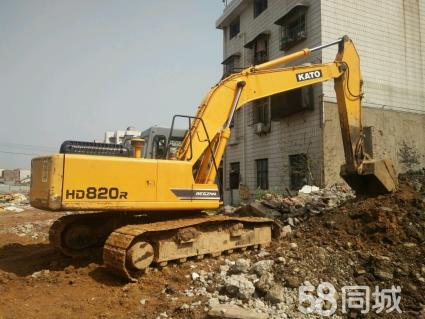excavator: (26, 32, 394, 286)
